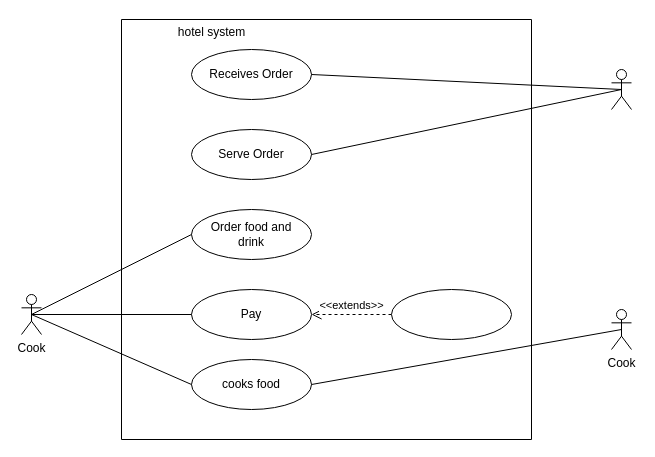
Some shapes in this 655 by 457 pixel diagram are drawn without their labels. The centre of each missing label's shape, as x and y in pixels:
"Discound" belongs at [451,314].
"Waiter" belongs at [621,89].
